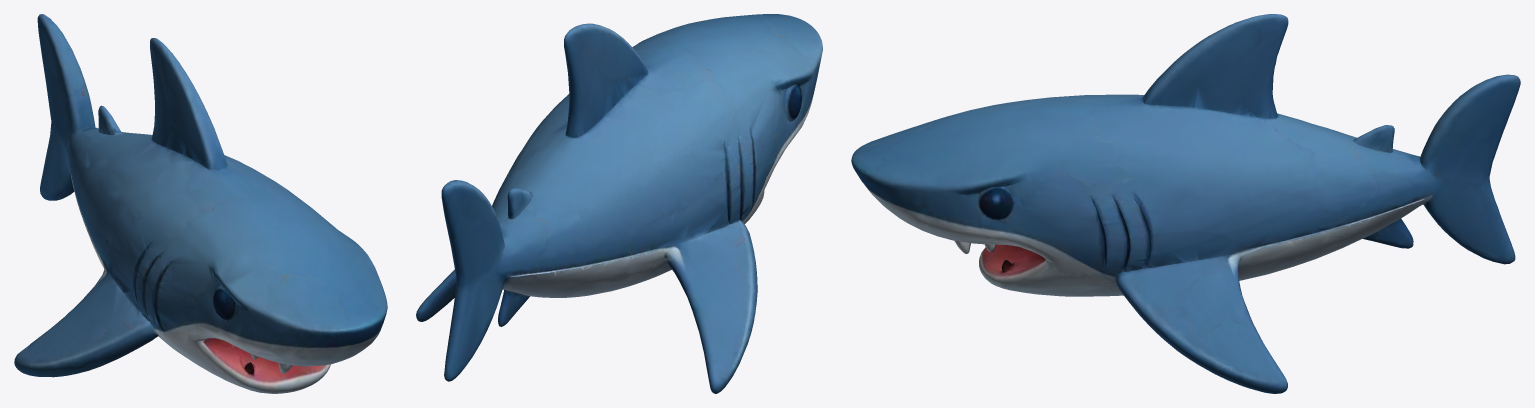
The model's file is shark_pbr.glb.
3 renders of one model, left to right at view 1: azimuth 30°, elevation 25°; view 2: azimuth 150°, elevation 25°; view 3: azimuth 270°, elevation 25°, orthographic. The views are drawn at different scales.
Visible parts, largest first — view 1: model.011; view 2: model.011; view 3: model.011.
Part boxes in pixels (x1,y1,x2,y2): model.011: [14, 14, 387, 393]; model.011: [416, 14, 822, 393]; model.011: [851, 14, 1520, 393].
Bounding box in the file's own units: 1.11 × 1.14 × 2.21.
1 material, 1 textured.
